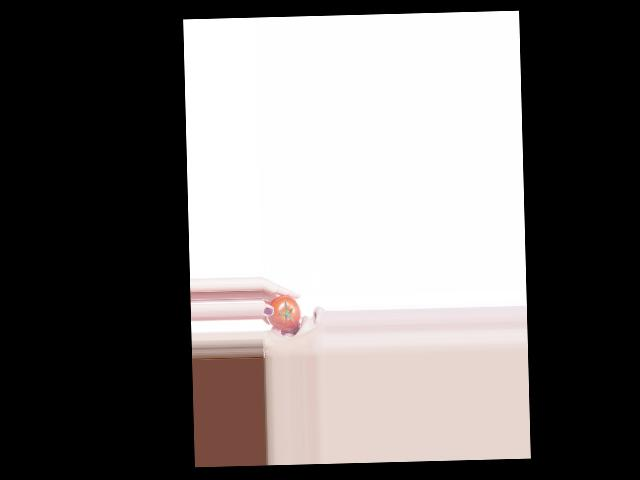tomato: (265, 294, 300, 329)
